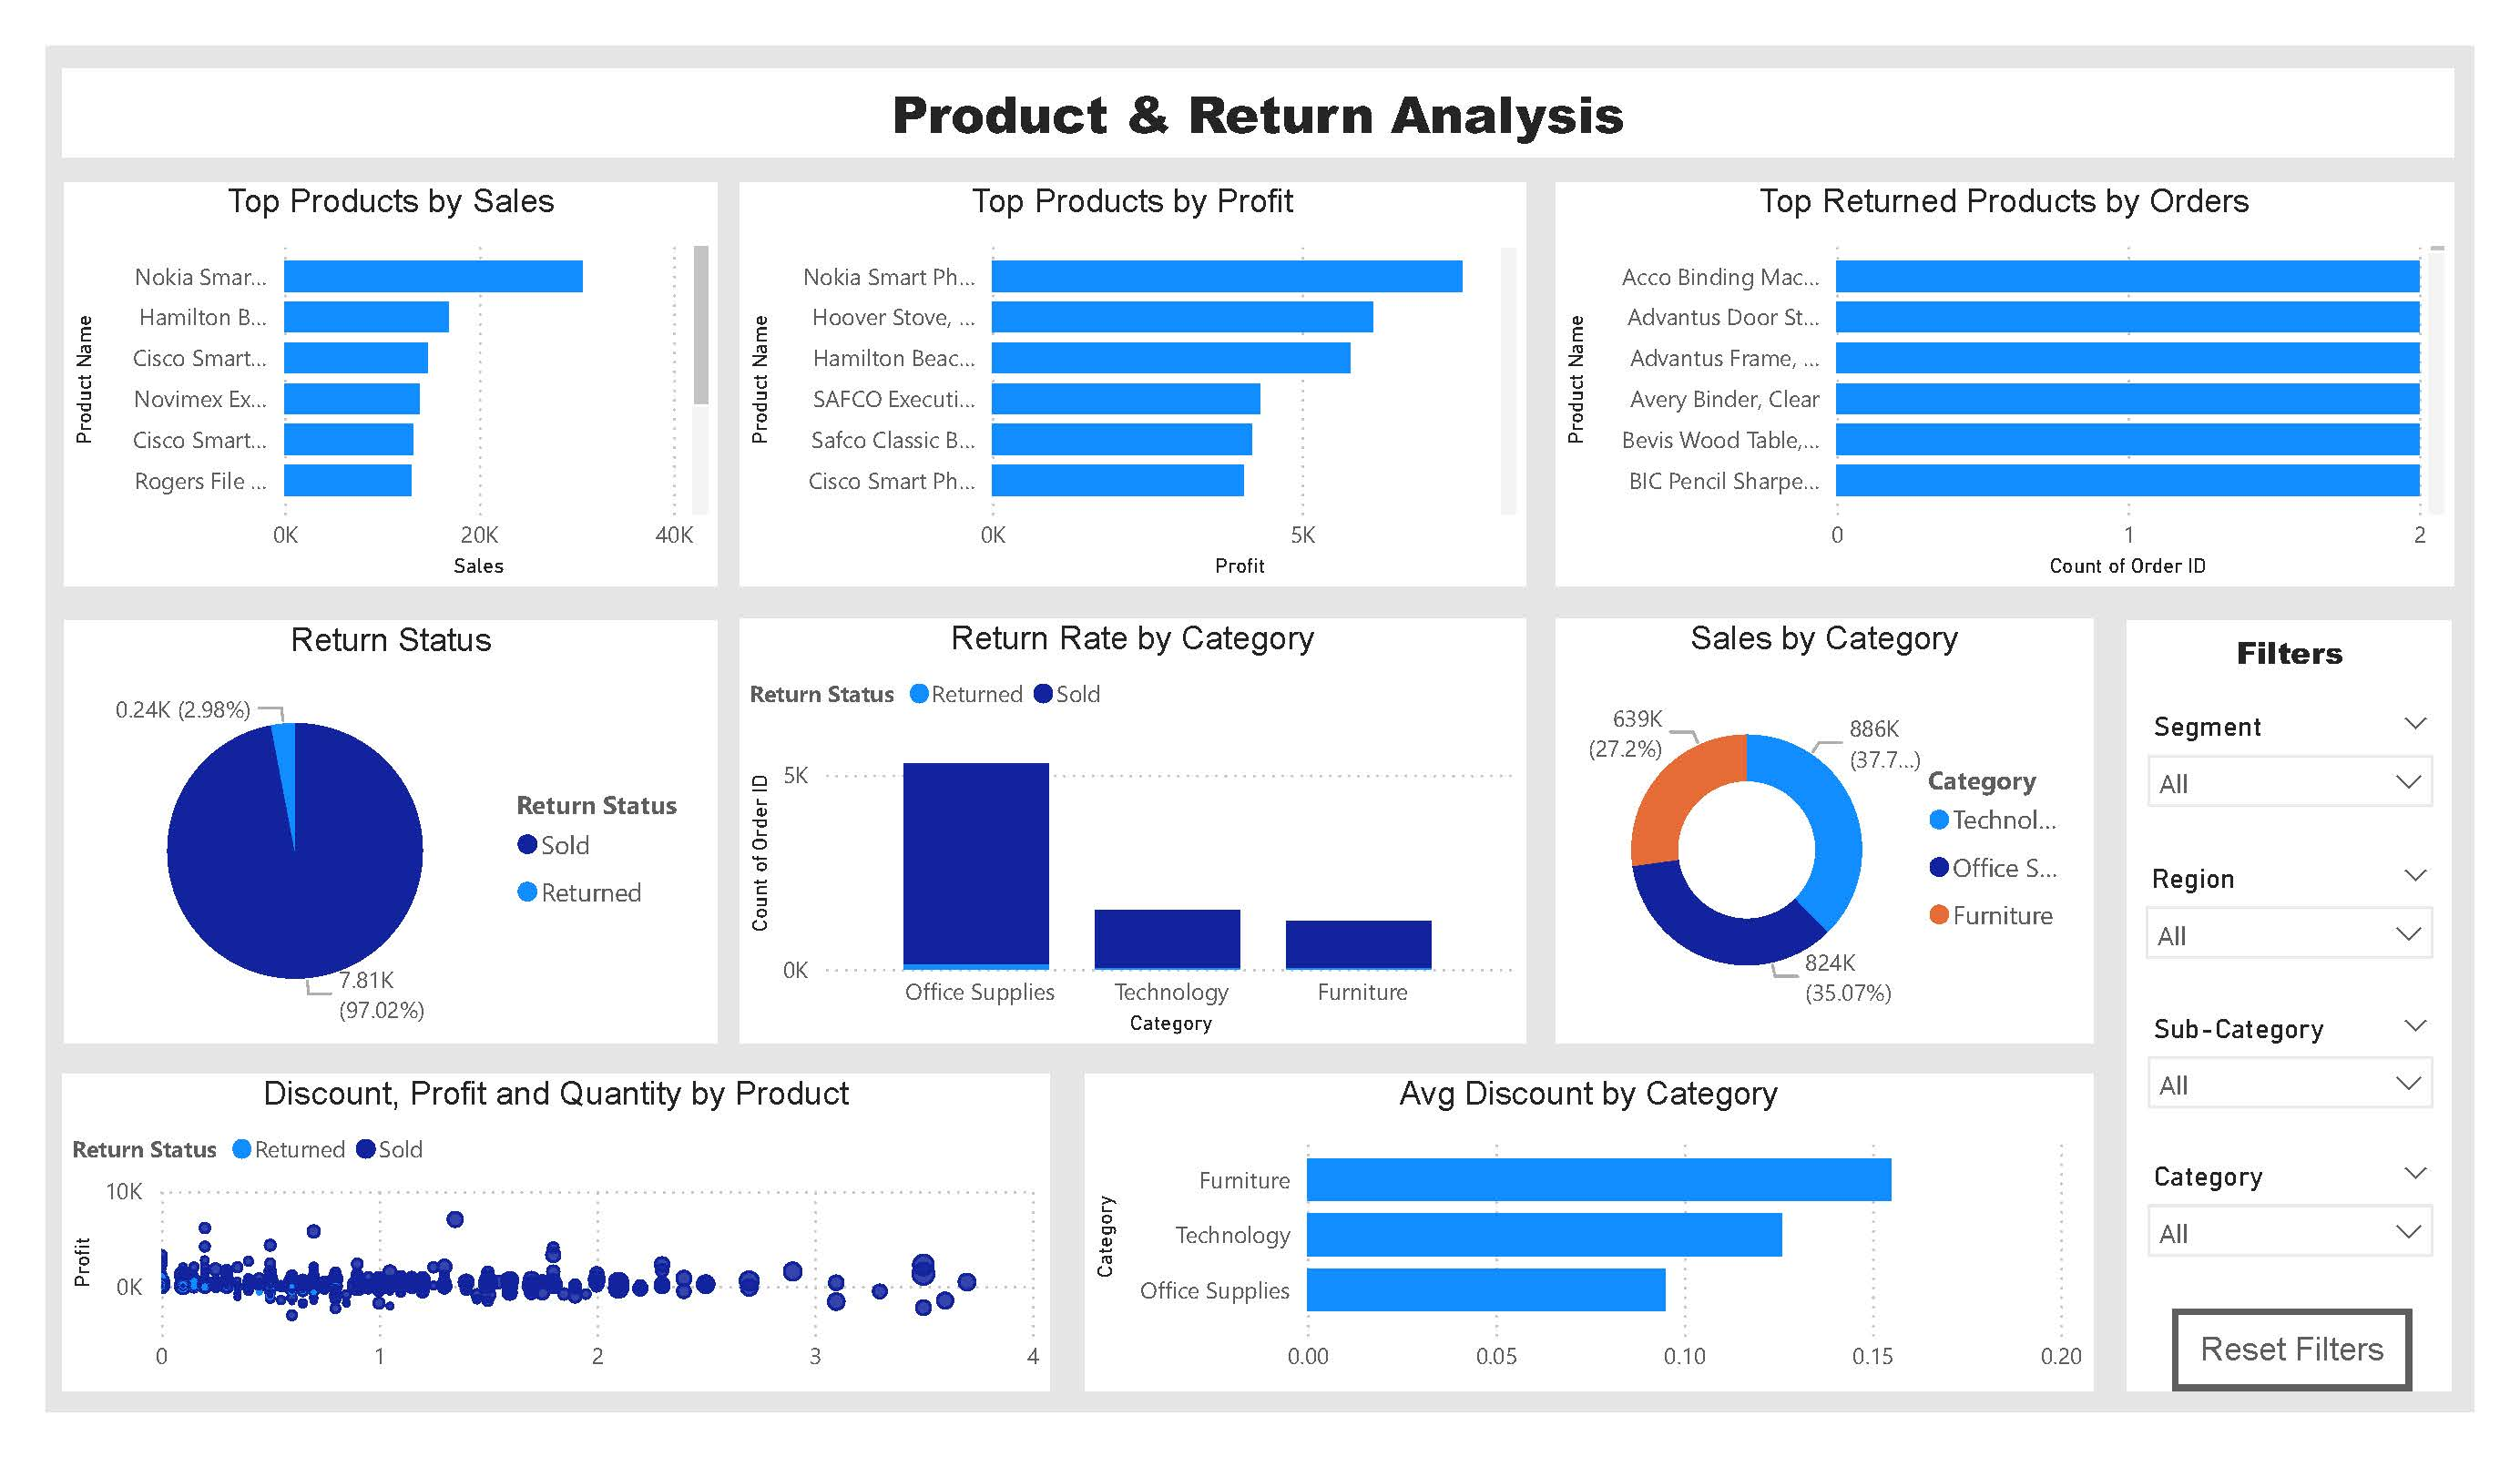

This screenshot's page, from the dashboard's own definition file:
{"tool":"powerbi","page":{"name":"Product & Return Analysis","canvas":[1280,720],"ordinal":1},"visuals":[{"type":"textbox","box":[9.3,12.4,1259.8,46.6],"z":0},{"type":"slicer","fields":{"Values":["Order Breakdown.Category"]},"box":[1097.8,582.9,170.7,72],"z":0,"group":"g1"},{"type":"barChart","title":"Top Products by Sales","fields":{"Category":["Order Breakdown.Product Name"],"Y":["Sum(Order Breakdown.Sales)"]},"box":[10,71.7,344.2,213.7],"z":1000},{"type":"slicer","fields":{"Values":["Order Breakdown.Sub-Category"]},"box":[1097.8,504.8,170.7,78.1],"z":1000,"group":"g1"},{"type":"barChart","title":"Top Products by Profit","fields":{"Category":["Order Breakdown.Product Name"],"Y":["Sum(Order Breakdown.Profit)"]},"box":[365.7,71.7,414.5,213.7],"z":2000},{"type":"slicer","fields":{"Values":["List of Orders.Region"]},"box":[1097.2,425.5,170.7,74.6],"z":2000,"group":"g1"},{"type":"slicer","fields":{"Values":["List of Orders.Segment"]},"box":[1097.8,345.5,170.7,84.2],"z":3000,"group":"g1"},{"type":"barChart","title":"Top Returned Products by Orders","fields":{"Category":["Order Breakdown.Product Name"],"Y":["CountNonNull(Order Breakdown.Order ID)"]},"box":[795.7,71.6,473.4,213.3],"z":3000},{"type":"textbox","box":[1097.8,302.6,170.7,42.9],"z":4000,"group":"g1"},{"type":"scatterChart","title":"Discount, Profit and Quantity by Product","fields":{"X":["Sum(Order Breakdown.Discount)"],"Y":["Sum(Order Breakdown.Profit)"],"Size":["Sum(Order Breakdown.Quantity)"],"Category":["Order Breakdown.Product Name"],"Series":["Order Breakdown.Return Status"]},"box":[8.6,542.2,520.6,166.4],"z":4000},{"type":"clusteredBarChart","fields":{"Category":["Order Breakdown.Category"],"Y":["List of Orders.Avg Discount"]},"box":[547.9,542.2,530.7,166.4],"z":5000},{"type":"pieChart","title":"Return Status","fields":{"Category":["Order Breakdown.Return Status"],"Y":["CountNonNull(Order Breakdown.Order ID)"]},"box":[10,302.6,344.2,223.7],"z":6000},{"type":"columnChart","title":"Return Rate by Category","fields":{"Category":["Order Breakdown.Category"],"Y":["CountNonNull(Order Breakdown.Order ID)"],"Series":["Order Breakdown.Return Status"]},"box":[365.9,302.1,414.2,224.2],"z":7000},{"type":"donutChart","fields":{"Category":["Order Breakdown.Category"],"Y":["Sum(Order Breakdown.Sales)"]},"box":[795.7,302.1,283.4,224.2],"z":8000},{"type":"actionButton","box":[1120.8,665.5,126.2,43],"z":8000,"group":"g1"},{"type":"group","id":"g1","title":"Group 1","box":[1097.2,302.6,170.7,405.9],"z":9000}]}

Visuals, with their boxes in screenshot pixels (x1, y1, x2, y2):
textbox: <bbox>63, 69, 2454, 158</bbox>
slicer - Order Breakdown.Category: <bbox>2128, 1151, 2453, 1288</bbox>
"Top Products by Sales" barChart: <bbox>65, 181, 718, 587</bbox>
slicer - Order Breakdown.Sub-Category: <bbox>2128, 1004, 2453, 1151</bbox>
"Top Products by Profit" barChart: <bbox>740, 181, 1526, 587</bbox>
slicer - List of Orders.Region: <bbox>2127, 852, 2452, 994</bbox>
slicer - List of Orders.Segment: <bbox>2128, 701, 2453, 861</bbox>
"Top Returned Products by Orders" barChart: <bbox>1556, 181, 2454, 586</bbox>
textbox: <bbox>2128, 619, 2453, 701</bbox>
"Discount, Profit and Quantity by Product" scatterChart: <bbox>62, 1075, 1050, 1390</bbox>
clusteredBarChart - Order Breakdown.Category x List of Orders.Avg Discount: <bbox>1086, 1075, 2092, 1390</bbox>
"Return Status" pieChart: <bbox>65, 619, 718, 1044</bbox>
"Return Rate by Category" columnChart: <bbox>740, 618, 1525, 1044</bbox>
donutChart - Order Breakdown.Category x Sum(Order Breakdown.Sales): <bbox>1556, 618, 2093, 1044</bbox>
actionButton: <bbox>2172, 1308, 2412, 1390</bbox>
"Group 1" group: <bbox>2127, 619, 2452, 1390</bbox>
